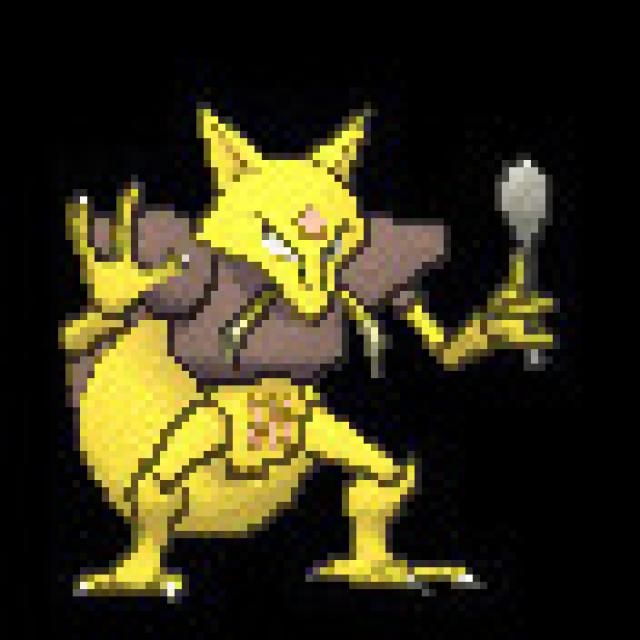Kadabra: (42, 97, 502, 599)
